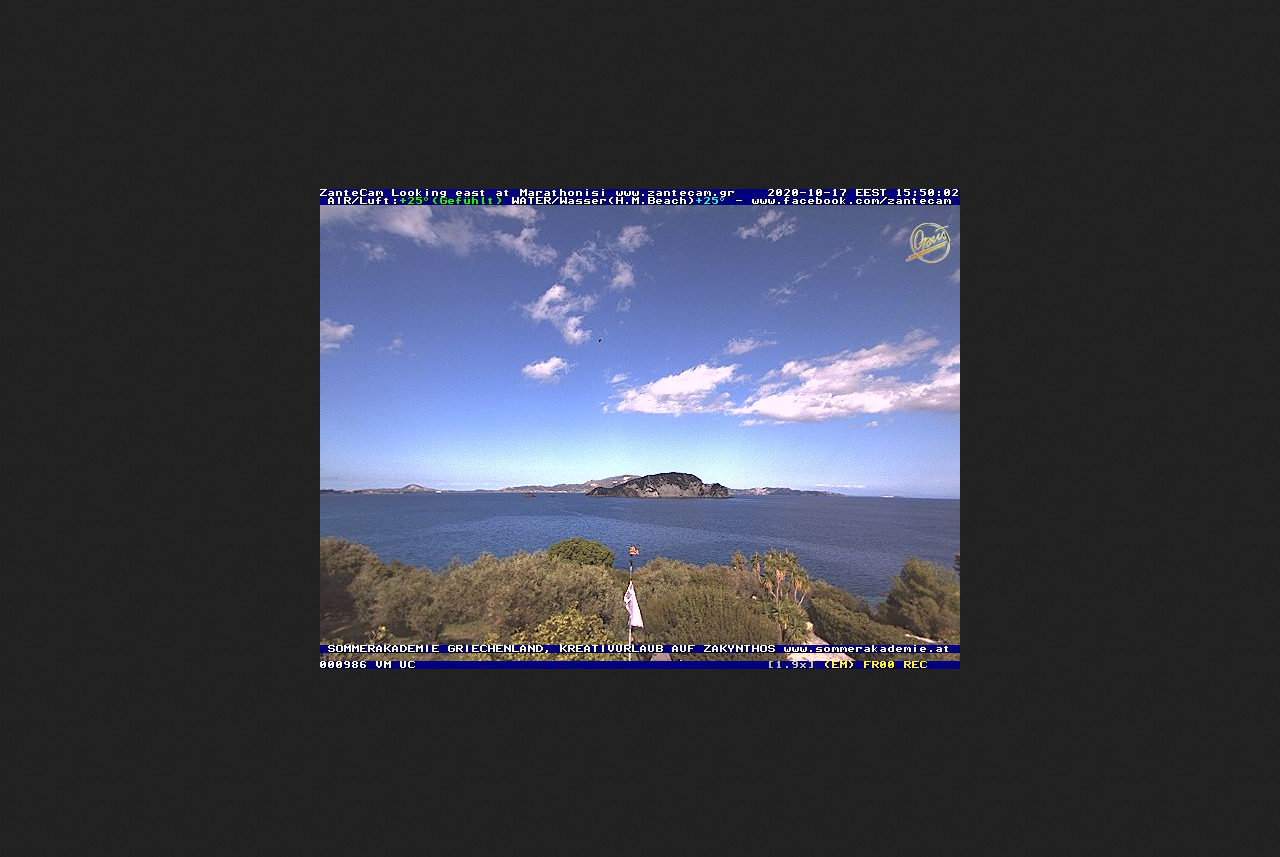no: (623, 566, 644, 630)
